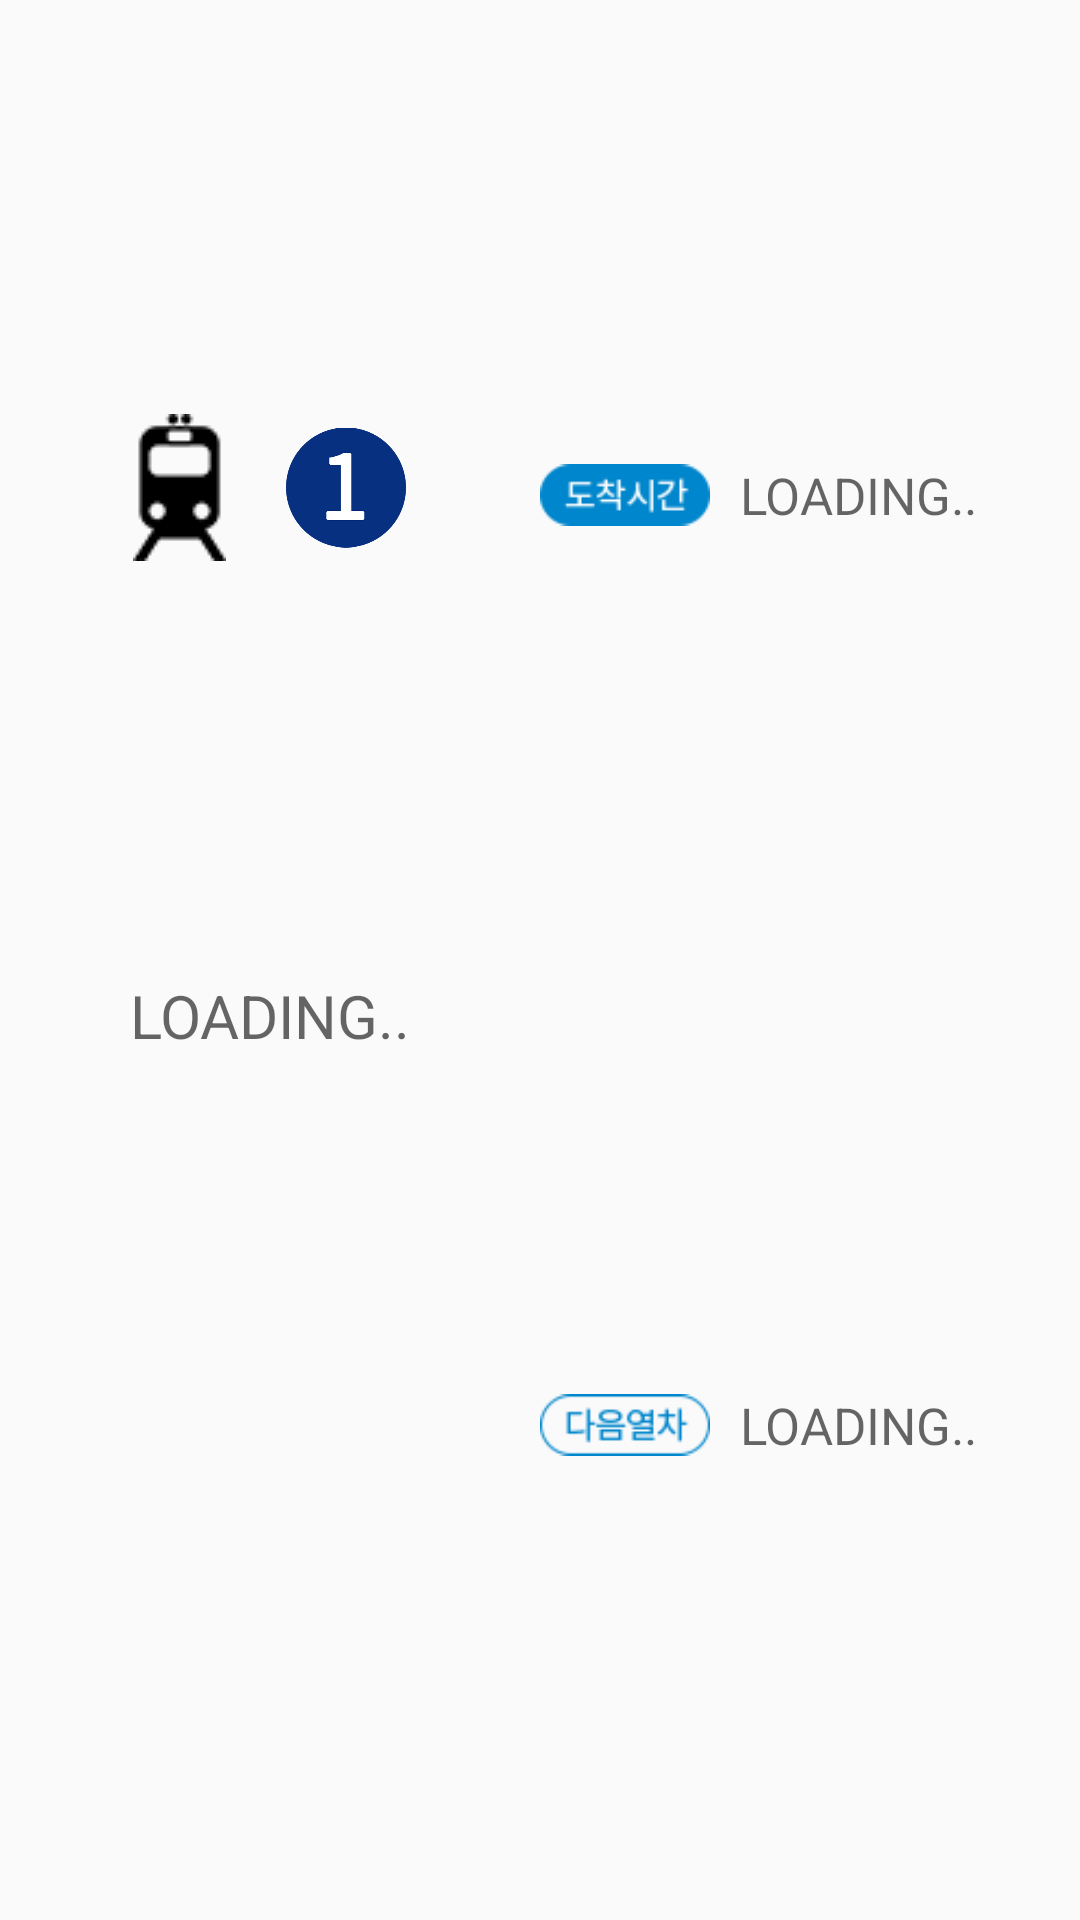

Where icons sit on this 1080 x 1920 app screen, as (x1, y1, x2, y2):
subway: (133, 414, 226, 561)
